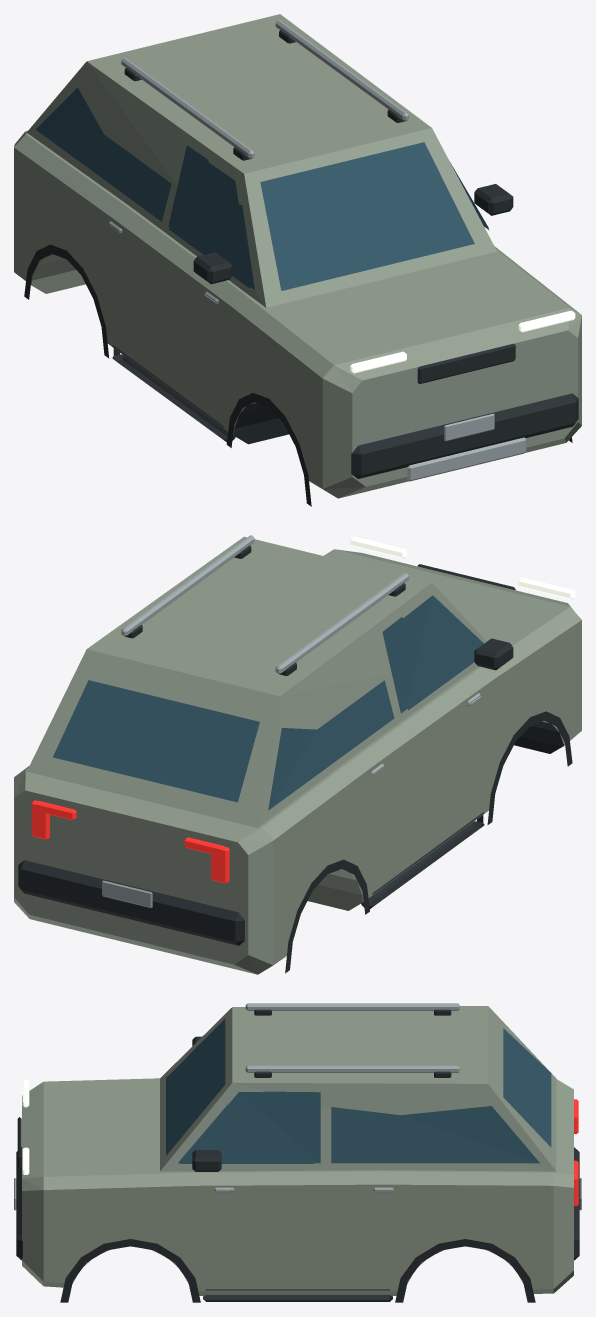
Rendered from crossover.glb.
3 renders of one model, top to bottom at view 1: azimuth 30°, elevation 25°; view 2: azimuth 150°, elevation 25°; view 3: azimuth 270°, elevation 25°, orthographic. The views are drawn at different scales.
Visible parts, largest first — view 1: BODY_Crossover, DoorLeftSkin, DoorRightSkin; view 2: BODY_Crossover, DoorLeftSkin; view 3: BODY_Crossover, DoorRightSkin.
Boxes of the visible parts, bbox=[...] form: BODY_Crossover: bbox=[14, 14, 581, 506]; DoorLeftSkin: bbox=[158, 142, 279, 434]; DoorRightSkin: bbox=[450, 162, 513, 248]; BODY_Crossover: bbox=[14, 535, 581, 974]; DoorLeftSkin: bbox=[384, 585, 513, 860]; BODY_Crossover: bbox=[14, 1003, 581, 1302]; DoorRightSkin: bbox=[180, 1086, 313, 1290].
Bounding box in the file's own units: 2.18 × 1.78 × 4.24.
